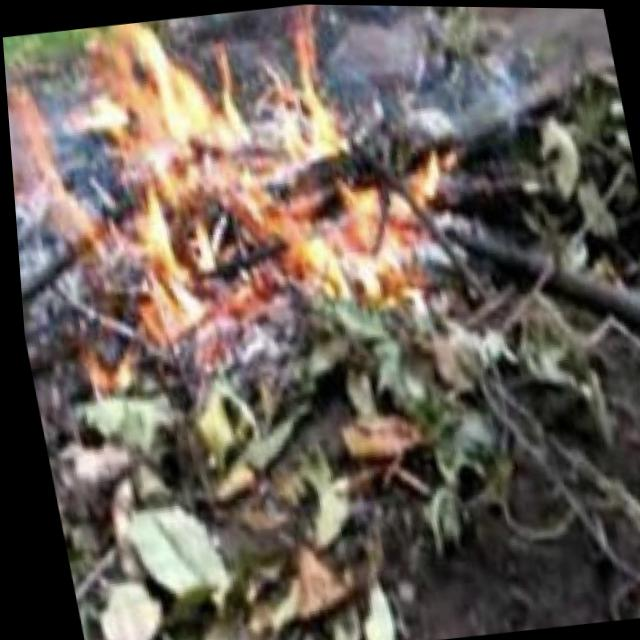Fire: (0, 0, 448, 348)
